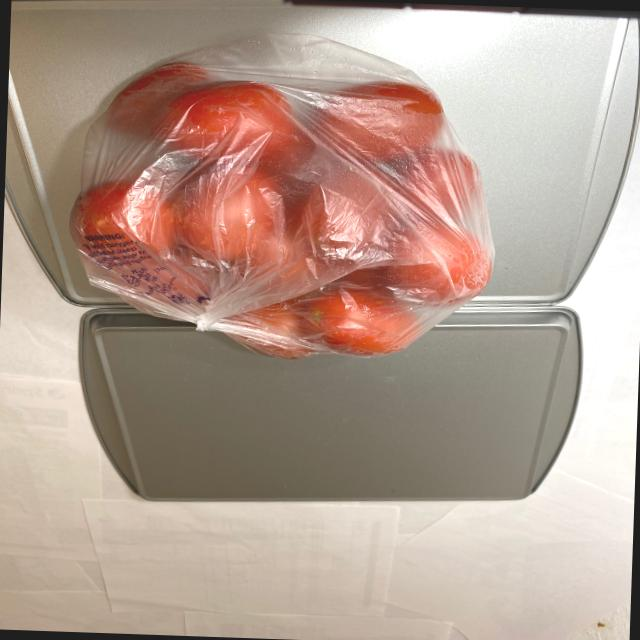tomato: (63, 51, 497, 366)
